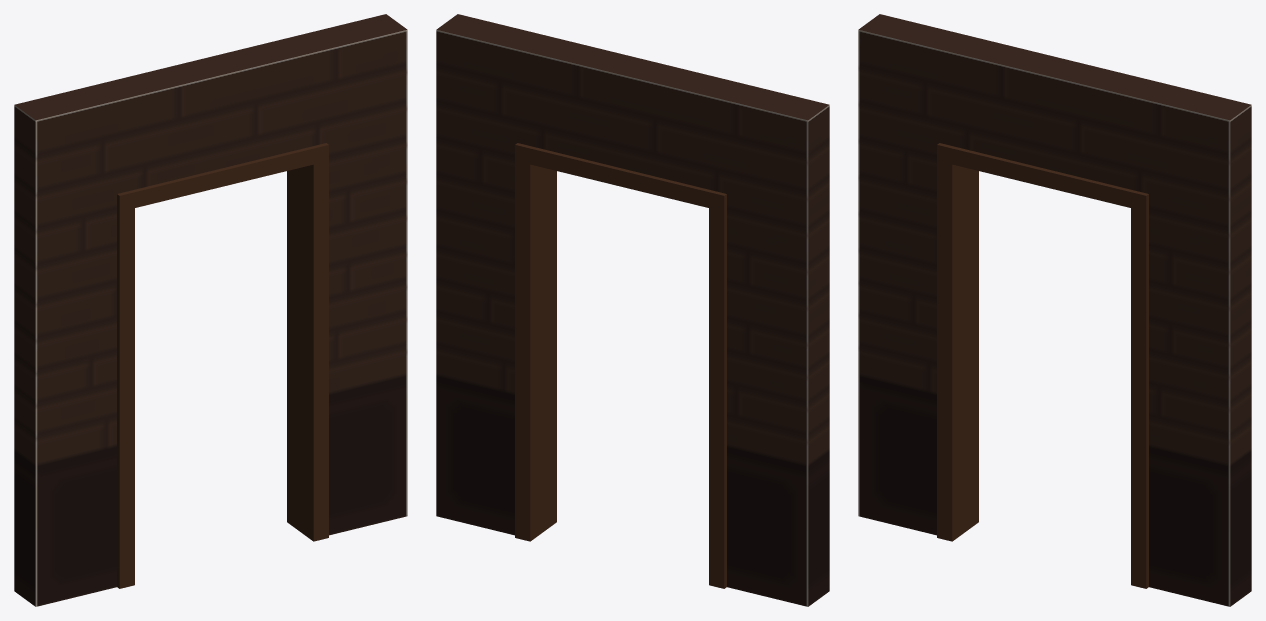
The model's file is Wall_Door.fbx.
3 renders of one model, left to right at view 1: azimuth 30°, elevation 25°; view 2: azimuth 150°, elevation 25°; view 3: azimuth 330°, elevation 25°, orthographic.
Parts seen in each view (by area): view 1: Door_wall; view 2: Door_wall; view 3: Door_wall.
Boxes of the visible parts, box(x1,y1,x2,y2) form: Door_wall: box(14, 14, 407, 606); Door_wall: box(436, 14, 829, 606); Door_wall: box(858, 14, 1251, 606).
Size of the model in its own units: 2 by 2.5 by 0.2472.
